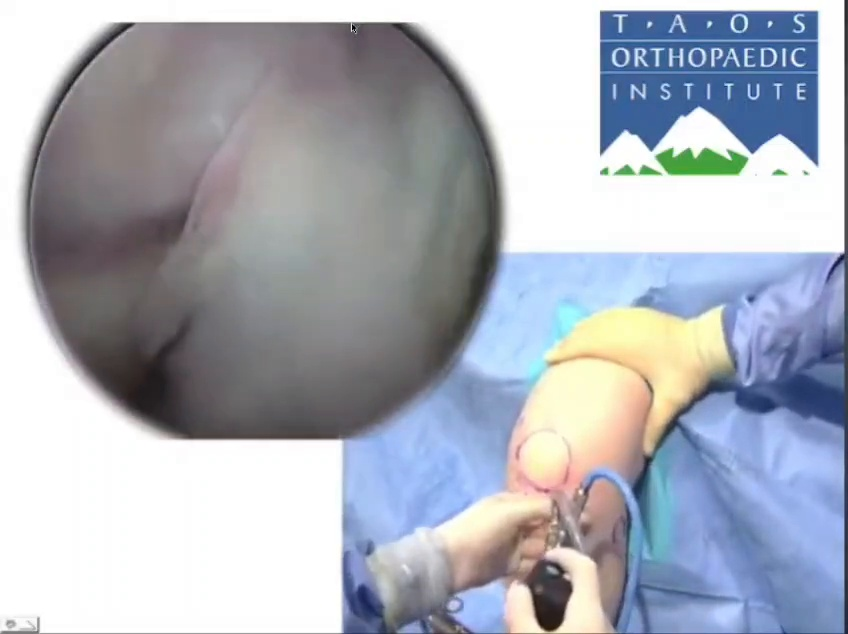arthroscope: (65, 0, 424, 355)
probe: (137, 384, 424, 472), (424, 112, 459, 235)
